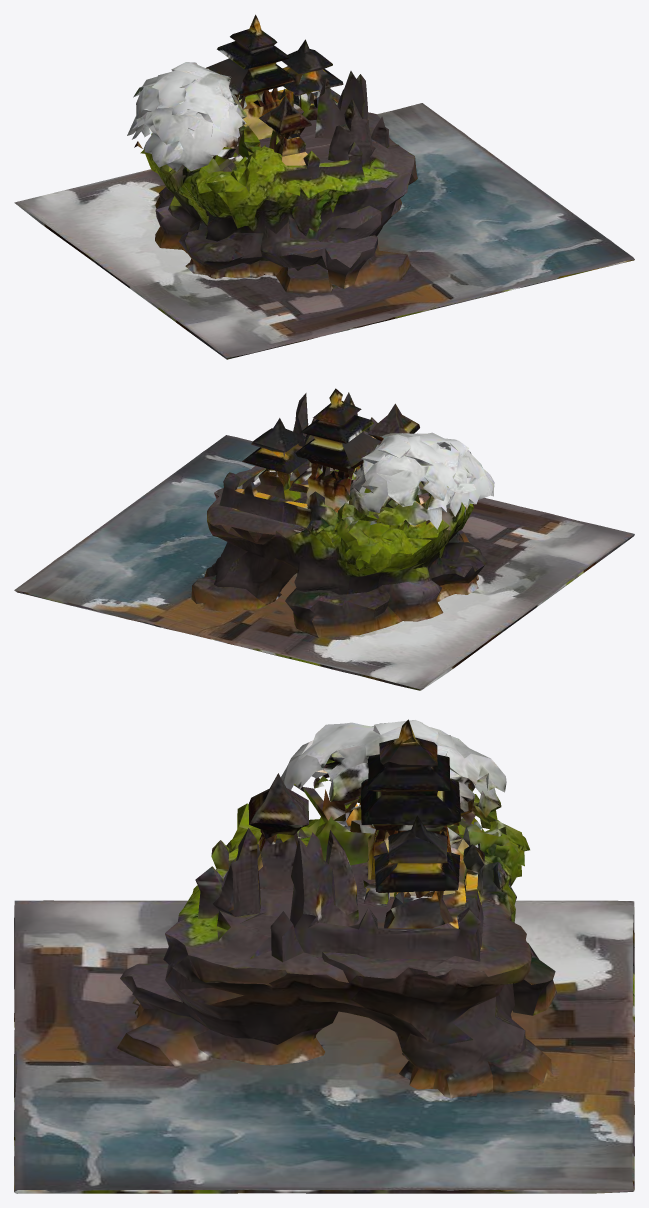
The model's file is tanah-lot.glb.
The picture shows the model from 3 angles, top to bottom: view 1: azimuth 30°, elevation 25°; view 2: azimuth 150°, elevation 25°; view 3: azimuth 270°, elevation 25°; orthographic projection. The views are drawn at different scales.
Parts seen in each view (by area): view 1: logan-textured.obj; view 2: logan-textured.obj; view 3: logan-textured.obj.
Boxes of the visible parts, <box> form: logan-textured.obj: <box>14,14,634,359</box>; logan-textured.obj: <box>14,388,634,690</box>; logan-textured.obj: <box>14,719,634,1193</box>.
Size of the model in its own units: 1 by 0.498 by 0.9042.
1 material, 1 textured.
